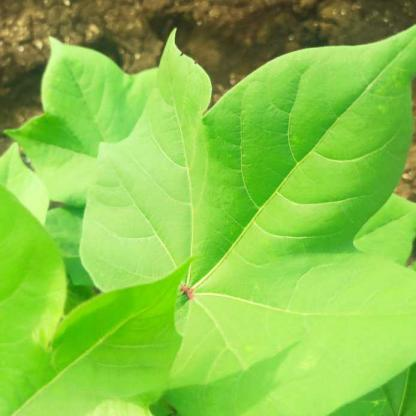cotton: (12, 24, 416, 398)
